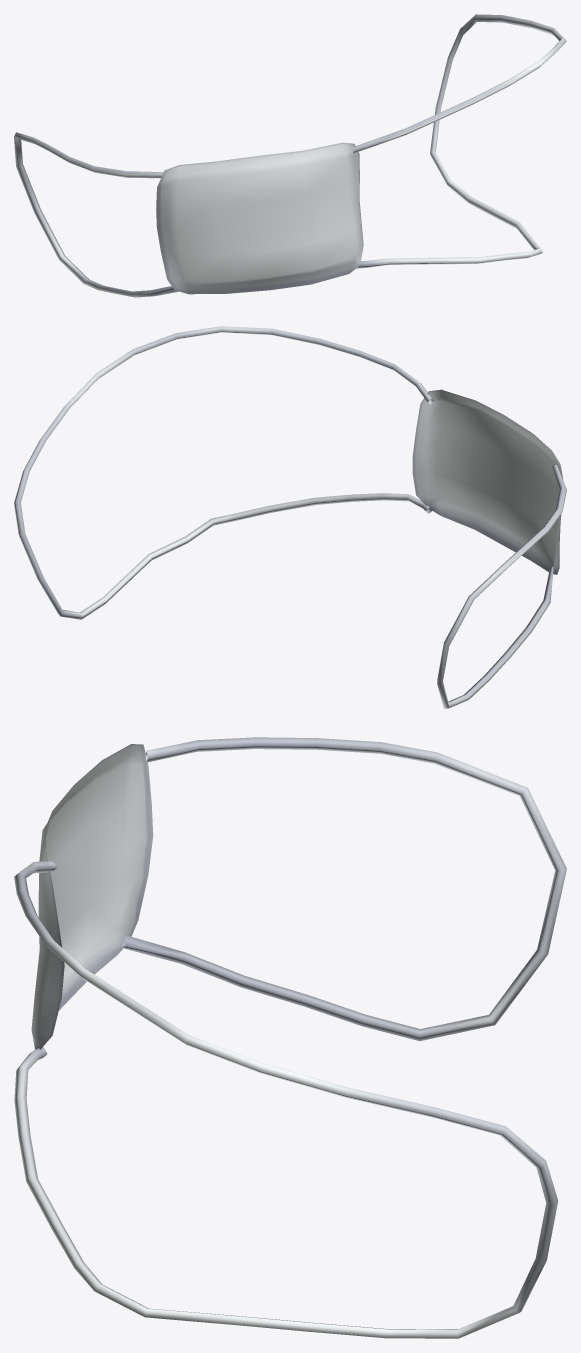
Rendered from Hakka_MedicalEyePatch.fbx.
3 renders of one model, top to bottom at view 1: azimuth 30°, elevation 25°; view 2: azimuth 150°, elevation 25°; view 3: azimuth 270°, elevation 25°, orthographic. The views are drawn at different scales.
Visible parts, largest first — view 1: MedicalEyepatch; view 2: MedicalEyepatch; view 3: MedicalEyepatch.
Part boxes in pixels (box(x1,y1,x2,y2)): MedicalEyepatch: box(14, 14, 566, 297); MedicalEyepatch: box(14, 326, 566, 708); MedicalEyepatch: box(14, 737, 566, 1338).
Size of the model in its own units: 0.1459 by 0.0631 by 0.0903.
